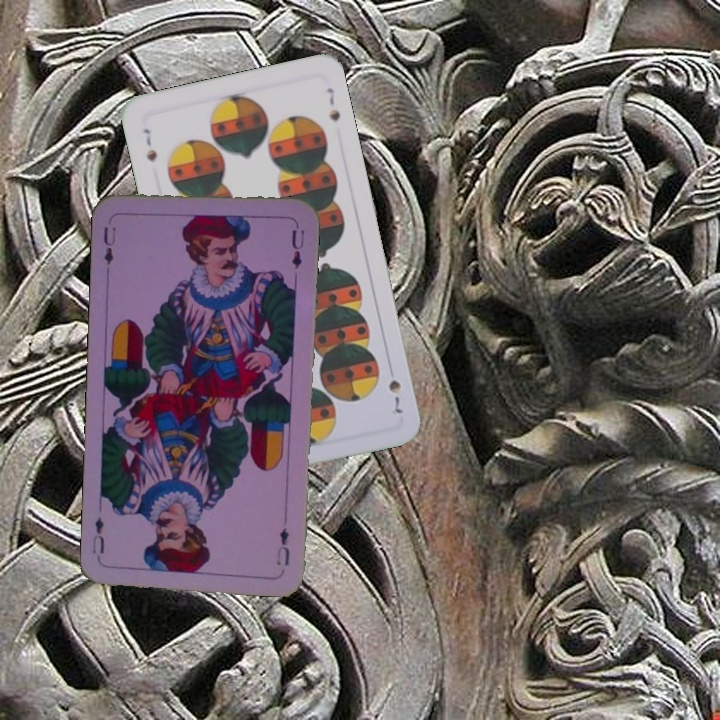EU: (273, 523, 292, 569), (100, 222, 118, 267)
S7: (384, 375, 406, 417), (139, 124, 160, 164)
